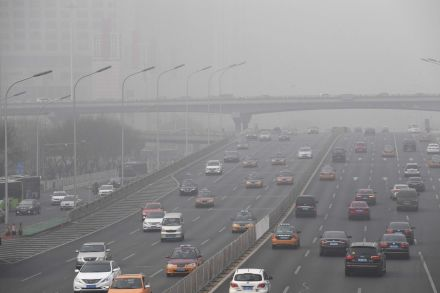car: (73, 259, 119, 291), (344, 243, 386, 276), (166, 248, 202, 275), (104, 272, 153, 291), (230, 269, 270, 292), (74, 241, 108, 268), (376, 233, 409, 258), (318, 230, 349, 256), (159, 213, 184, 240), (271, 224, 299, 247), (294, 194, 317, 217), (394, 188, 417, 210), (231, 209, 254, 230), (346, 200, 369, 219), (15, 199, 40, 215), (195, 188, 215, 208), (144, 209, 163, 230), (354, 188, 377, 205), (243, 172, 264, 188), (140, 200, 159, 216), (406, 175, 425, 191), (178, 178, 196, 194), (204, 159, 222, 174), (319, 164, 335, 180), (402, 160, 419, 175), (49, 189, 66, 203), (61, 195, 79, 207), (276, 171, 292, 183), (98, 184, 114, 196), (221, 150, 238, 161), (298, 146, 311, 158), (244, 128, 257, 140), (278, 130, 290, 143), (271, 152, 282, 165), (355, 141, 366, 153), (259, 129, 270, 140), (382, 146, 393, 156), (428, 143, 438, 153)
